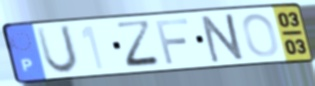1: (80, 25, 106, 71)
F: (153, 16, 191, 66)
N: (199, 11, 249, 65)
O: (241, 12, 281, 59)
U: (34, 23, 82, 77)
Z: (113, 18, 165, 70)
